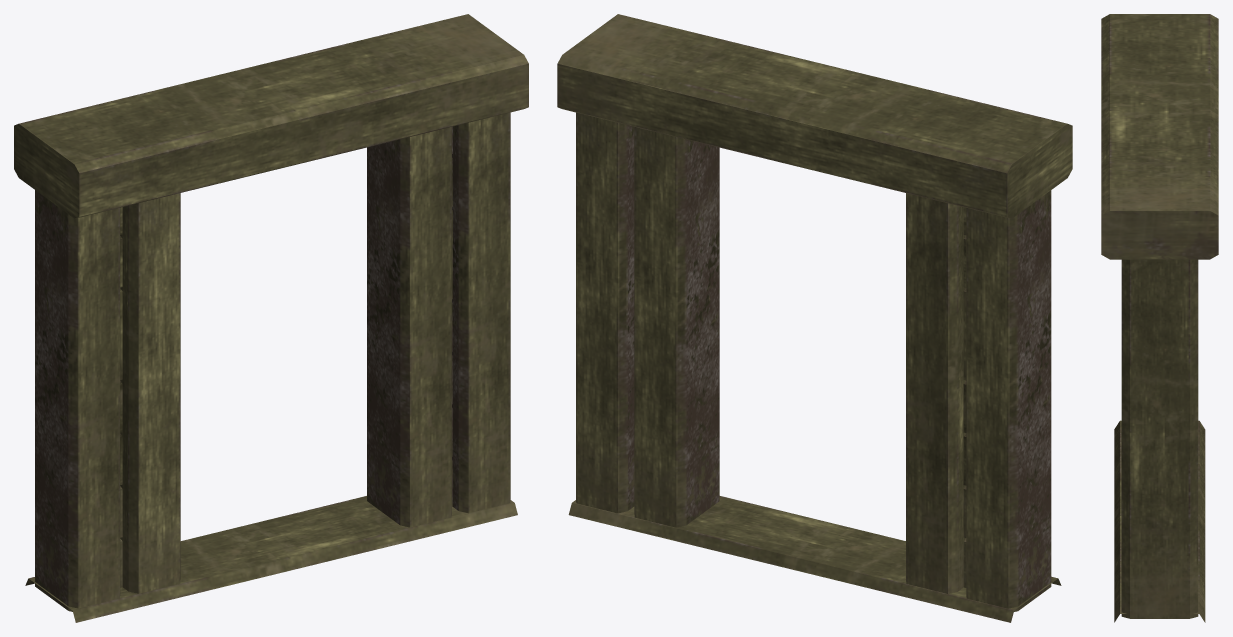
Rendered from SM_TrenchToBunker_Door.glb.
3 views of the same model, side by side, from view 1: azimuth 30°, elevation 25°; view 2: azimuth 150°, elevation 25°; view 3: azimuth 270°, elevation 25° (orthographic). The views are drawn at different scales.
Parts seen in each view (by area): view 1: SM_TrenchtoBunker_Door; view 2: SM_TrenchtoBunker_Door; view 3: SM_TrenchtoBunker_Door.
Boxes of the visible parts, bbox=[...] form: SM_TrenchtoBunker_Door: bbox=[14, 14, 528, 622]; SM_TrenchtoBunker_Door: bbox=[557, 14, 1072, 622]; SM_TrenchtoBunker_Door: bbox=[1101, 14, 1218, 622].
Bounding box in the file's own units: 2.3 × 2.26 × 0.5799.
Materials: 1 (1 with a texture image).
